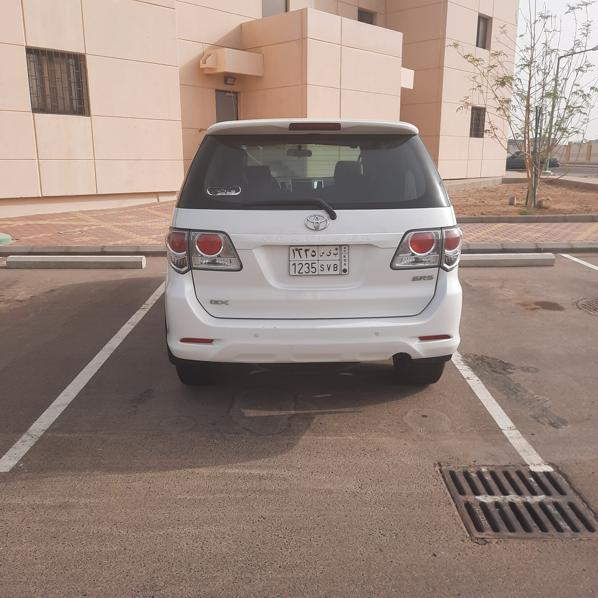numberplate: (289, 246, 348, 275)
